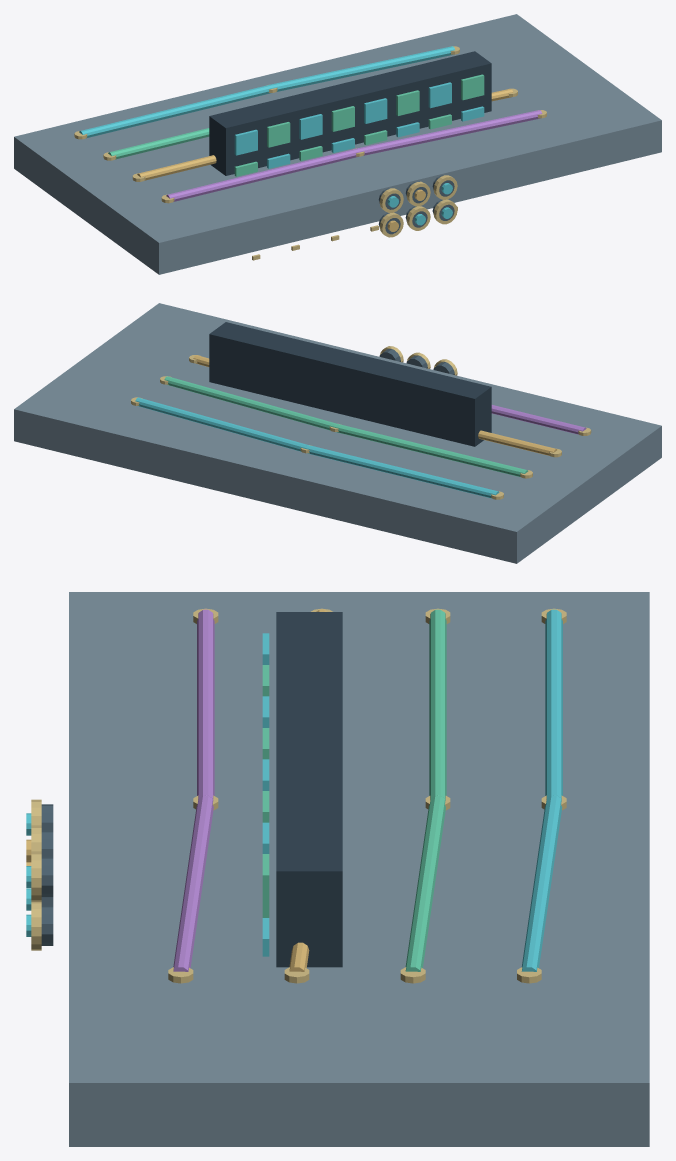
File: 41_L81_ResilientInterchipCommunicationFabric.glb
3 views of the same model, one above another, from view 1: azimuth 30°, elevation 25°; view 2: azimuth 150°, elevation 25°; view 3: azimuth 270°, elevation 25° (orthographic). The views are drawn at different scales.
Visible parts, largest first — view 1: ResilientInterchipCommunicationFabric_Node_0000, ResilientInterchipCommunicationFabric_Node_0025, ResilientInterchipCommunicationFabric_Node_0019, ResilientInterchipCommunicationFabric_Node_0001, ResilientInterchipCommunicationFabric_Node_0002, ResilientInterchipCommunicationFabric_Node_0020, ResilientInterchipCommunicationFabric_Node_0007, ResilientInterchipCommunicationFabric_Node_0013, ResilientInterchipCommunicationFabric_Node_0050, ResilientInterchipCommunicationFabric_Node_0054, ResilientInterchipCommunicationFabric_Node_0053, ResilientInterchipCommunicationFabric_Node_0055 (+4 smaller); view 2: ResilientInterchipCommunicationFabric_Node_0000, ResilientInterchipCommunicationFabric_Node_0025, ResilientInterchipCommunicationFabric_Node_0001, ResilientInterchipCommunicationFabric_Node_0007, ResilientInterchipCommunicationFabric_Node_0002, ResilientInterchipCommunicationFabric_Node_0008, ResilientInterchipCommunicationFabric_Node_0019, ResilientInterchipCommunicationFabric_Node_0013; view 3: ResilientInterchipCommunicationFabric_Node_0000, ResilientInterchipCommunicationFabric_Node_0025, ResilientInterchipCommunicationFabric_Node_0007, ResilientInterchipCommunicationFabric_Node_0019, ResilientInterchipCommunicationFabric_Node_0001, ResilientInterchipCommunicationFabric_Node_0002, ResilientInterchipCommunicationFabric_Node_0008, ResilientInterchipCommunicationFabric_Node_0020.
Boxes of the visible parts, x1=… form: ResilientInterchipCommunicationFabric_Node_0000: x1=14, y1=14, x2=661, y2=274; ResilientInterchipCommunicationFabric_Node_0025: x1=209, y1=51, x2=491, y2=175; ResilientInterchipCommunicationFabric_Node_0019: x1=166, y1=148, x2=359, y2=201; ResilientInterchipCommunicationFabric_Node_0001: x1=79, y1=84, x2=272, y2=138; ResilientInterchipCommunicationFabric_Node_0002: x1=271, y1=46, x2=454, y2=91; ResilientInterchipCommunicationFabric_Node_0020: x1=358, y1=110, x2=542, y2=155; ResilientInterchipCommunicationFabric_Node_0007: x1=108, y1=128, x2=209, y2=159; ResilientInterchipCommunicationFabric_Node_0013: x1=137, y1=155, x2=216, y2=180; ResilientInterchipCommunicationFabric_Node_0050: x1=234, y1=129, x2=257, y2=155; ResilientInterchipCommunicationFabric_Node_0054: x1=364, y1=98, x2=387, y2=123; ResilientInterchipCommunicationFabric_Node_0053: x1=331, y1=106, x2=354, y2=131; ResilientInterchipCommunicationFabric_Node_0055: x1=396, y1=90, x2=419, y2=115; ResilientInterchipCommunicationFabric_Node_0000: x1=14, y1=303, x2=661, y2=563; ResilientInterchipCommunicationFabric_Node_0025: x1=209, y1=322, x2=491, y2=446; ResilientInterchipCommunicationFabric_Node_0001: x1=305, y1=445, x2=499, y2=498; ResilientInterchipCommunicationFabric_Node_0007: x1=334, y1=423, x2=528, y2=477; ResilientInterchipCommunicationFabric_Node_0002: x1=135, y1=397, x2=307, y2=451; ResilientInterchipCommunicationFabric_Node_0008: x1=164, y1=376, x2=336, y2=430; ResilientInterchipCommunicationFabric_Node_0019: x1=491, y1=405, x2=586, y2=434; ResilientInterchipCommunicationFabric_Node_0013: x1=478, y1=430, x2=557, y2=455; ResilientInterchipCommunicationFabric_Node_0000: x1=69, y1=592, x2=649, y2=1146; ResilientInterchipCommunicationFabric_Node_0025: x1=276, y1=612, x2=342, y2=967; ResilientInterchipCommunicationFabric_Node_0007: x1=429, y1=609, x2=446, y2=798; ResilientInterchipCommunicationFabric_Node_0019: x1=197, y1=609, x2=214, y2=798; ResilientInterchipCommunicationFabric_Node_0001: x1=545, y1=609, x2=562, y2=798; ResilientInterchipCommunicationFabric_Node_0002: x1=521, y1=795, x2=562, y2=971; ResilientInterchipCommunicationFabric_Node_0008: x1=405, y1=795, x2=445, y2=971; ResilientInterchipCommunicationFabric_Node_0020: x1=173, y1=795, x2=213, y2=971.
Bounding box in the file's own units: 2.8 × 0.71 × 1.5.
